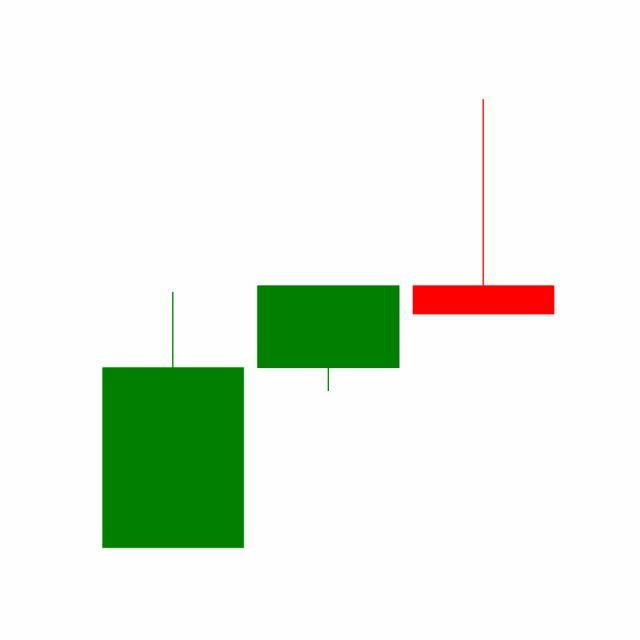Gravestone Doji: (406, 98, 562, 318)
